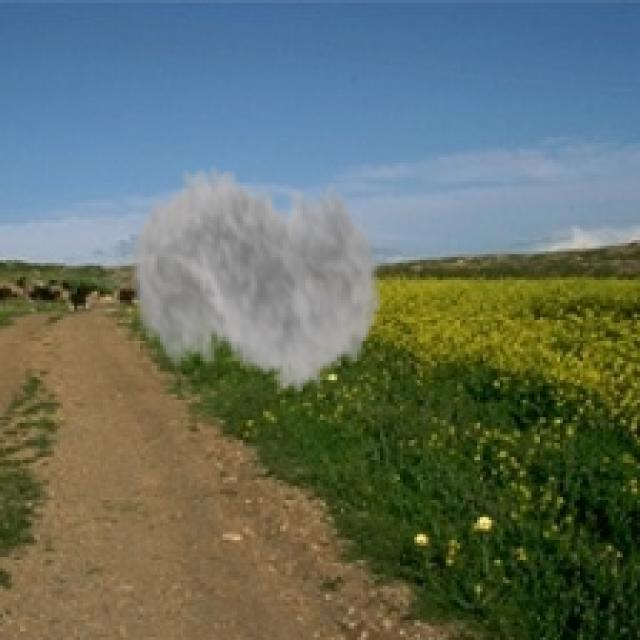smoke: (128, 137, 383, 414)
